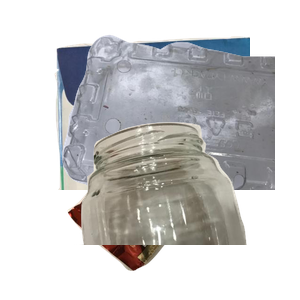glass: (74, 120, 300, 300)
paper: (52, 34, 292, 214)
plastic: (60, 32, 300, 212)
trash: (65, 145, 242, 300)
